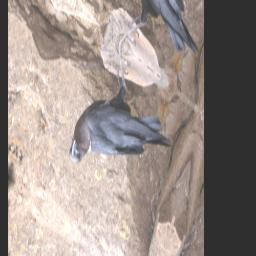Crow: (66, 29, 186, 228)
